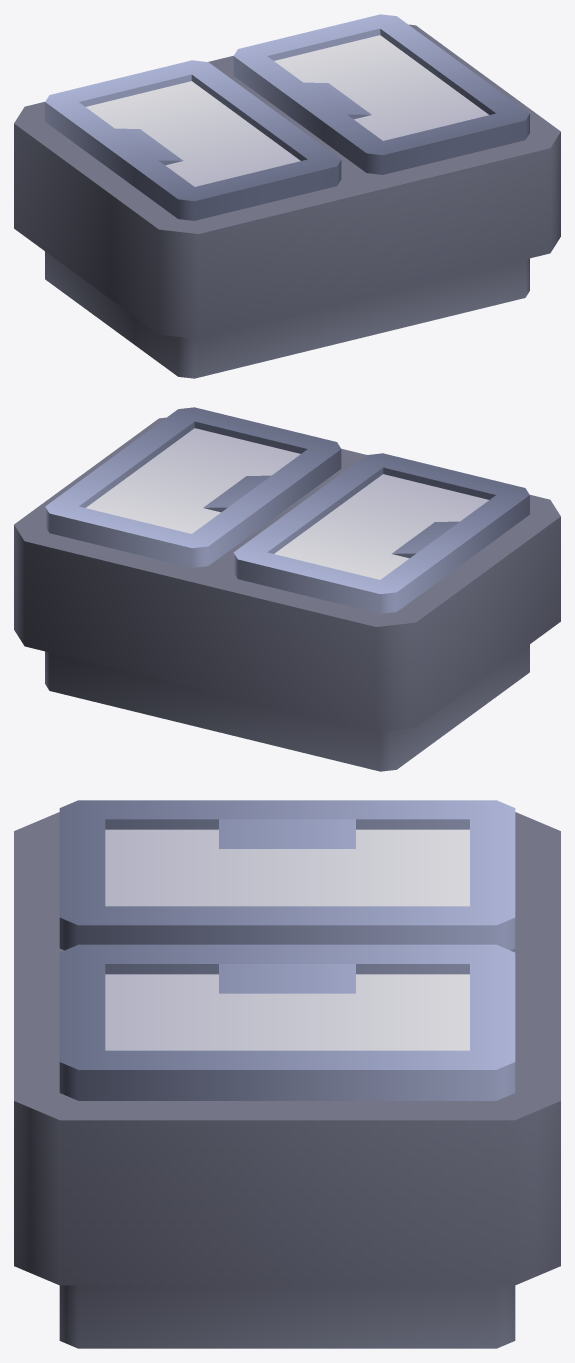
File: freezer.obj
The picture shows the model from 3 angles, top to bottom: view 1: azimuth 30°, elevation 25°; view 2: azimuth 150°, elevation 25°; view 3: azimuth 270°, elevation 25°; orthographic projection. The views are drawn at different scales.
Visible parts, largest first — view 1: freezer; view 2: freezer; view 3: freezer.
Part boxes in pixels (<box>): freezer: <box>14,14,560,378</box>; freezer: <box>14,407,560,771</box>; freezer: <box>14,800,560,1348</box>.
Bounding box in the file's own units: 0.8 × 0.3375 × 0.6.
1 material, 1 textured.
